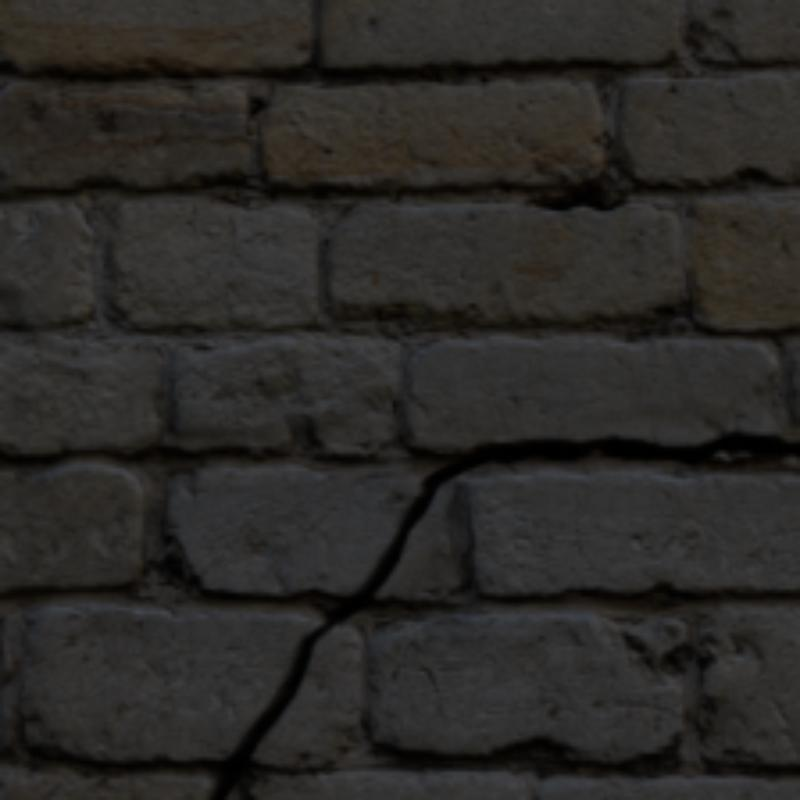pothole: (211, 436, 797, 800)
